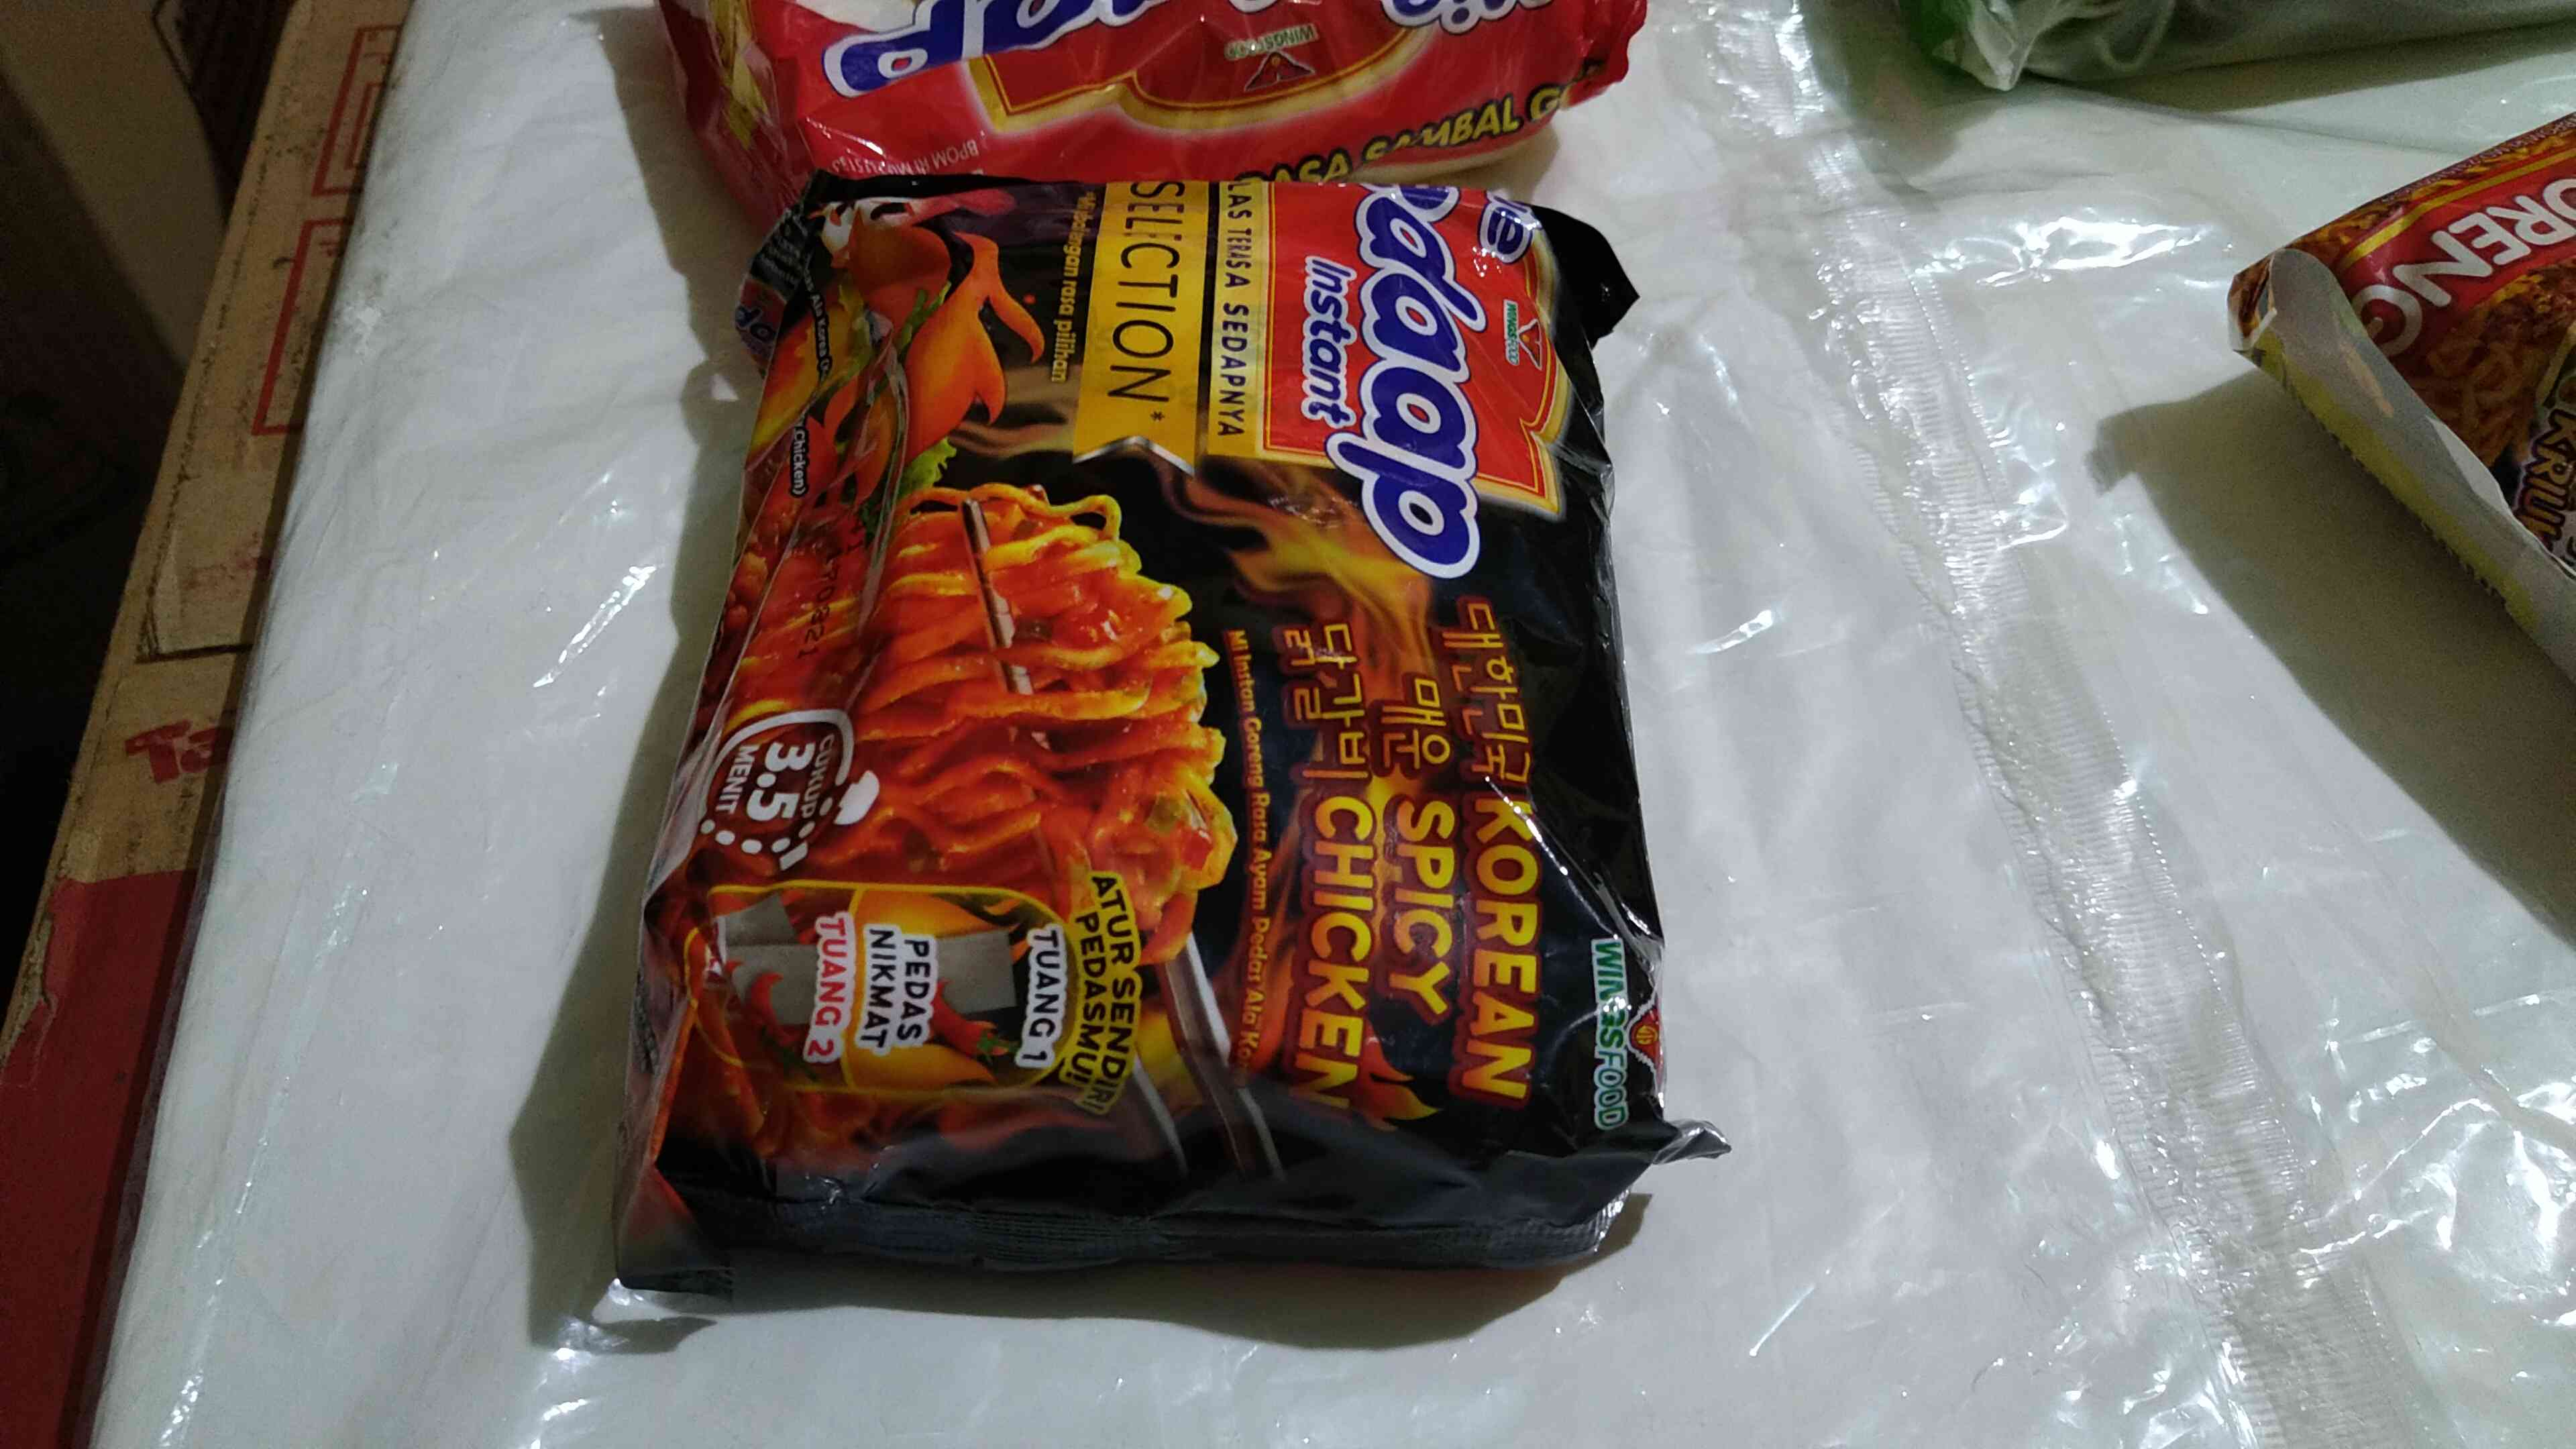sedaap spicy: (648, 191, 1683, 1269)
